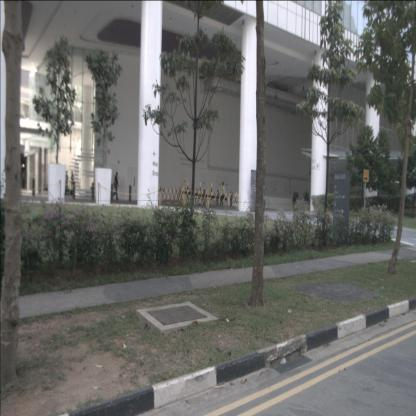human-pedestrian-adult: (112, 172, 119, 200), (64, 170, 69, 193), (71, 171, 74, 190)
